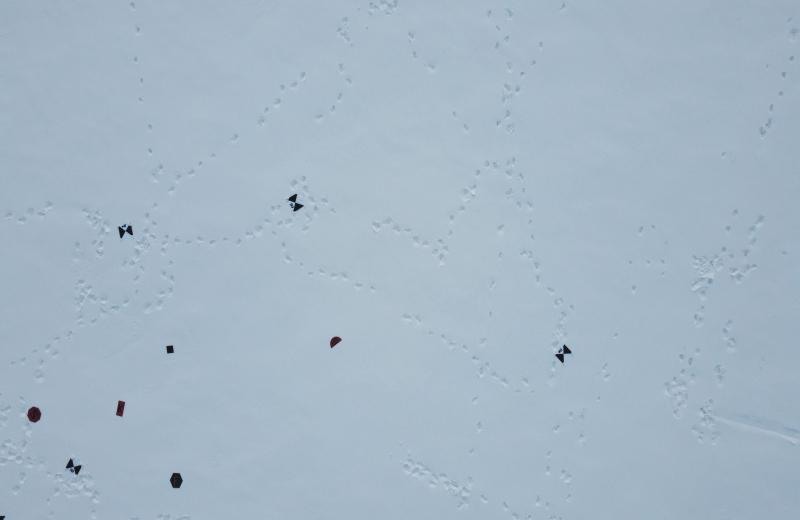Hexagon: (170, 472, 184, 490)
Octagon: (26, 406, 42, 424)
Rectangle: (116, 399, 126, 418)
Semi Circle: (330, 335, 342, 349)
Square: (165, 344, 175, 354)
